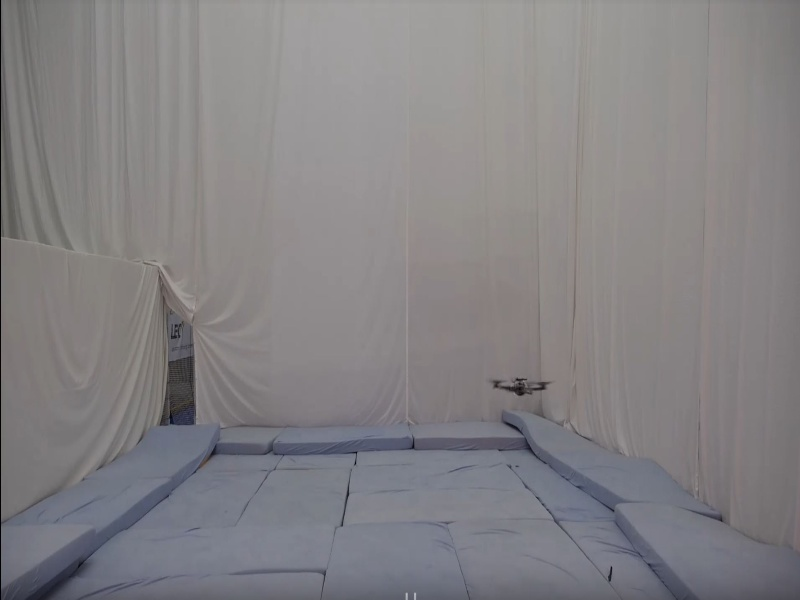drone: (486, 375, 557, 399)
